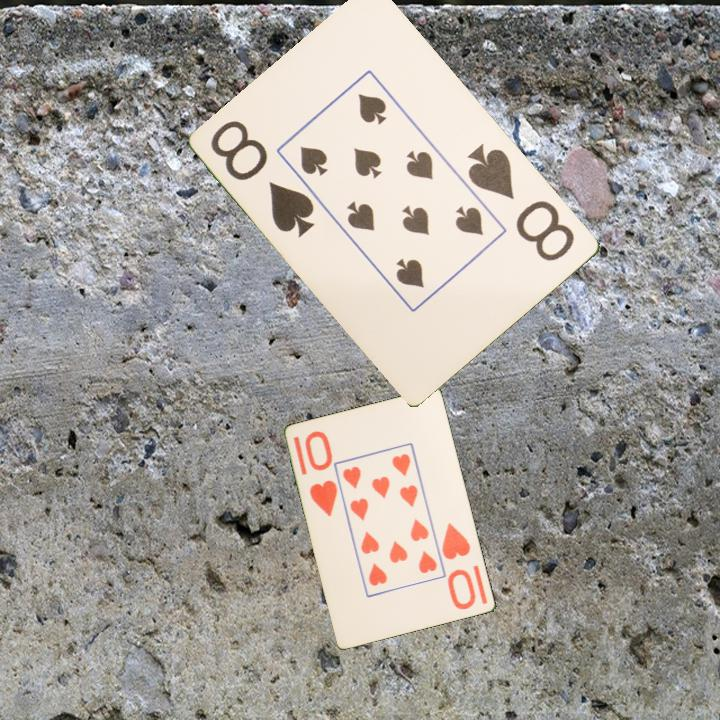10h: (439, 519, 479, 613), (302, 427, 341, 520)
8s: (464, 140, 579, 265), (207, 116, 318, 241)
